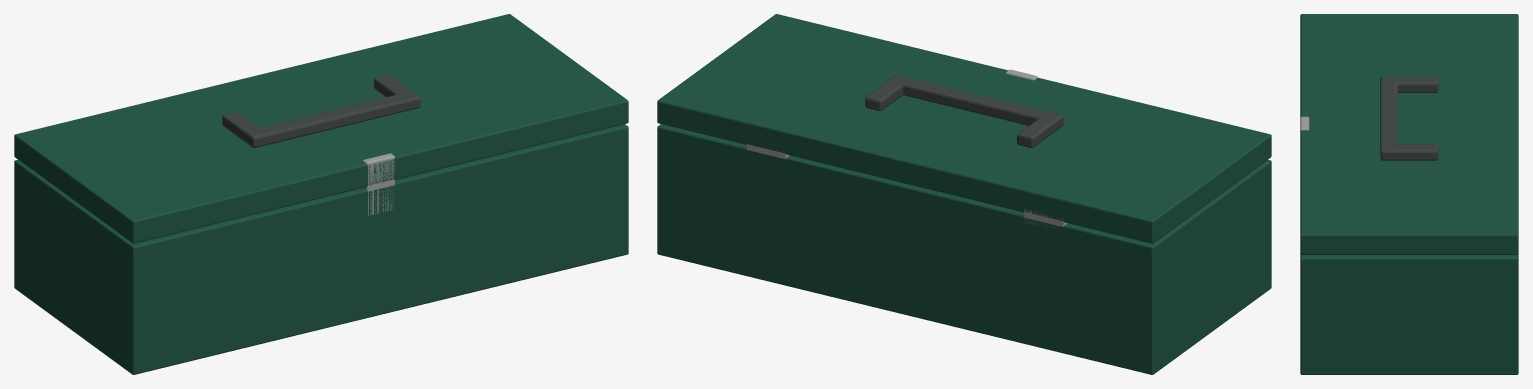
The model's file is storage-toolbox-v1.glb.
3 renders of one model, left to right at view 1: azimuth 30°, elevation 25°; view 2: azimuth 150°, elevation 25°; view 3: azimuth 270°, elevation 25°, orthographic. The views are drawn at different scales.
Visible parts, largest first — view 1: body, lid, handle-grip, front-latch, handle-left, handle-right; view 2: body, lid, handle-grip, handle-left, handle-right; view 3: lid, body, handle-grip, handle-right, handle-left.
Boxes of the visible parts, x1,y1,x2,y2 form: body: [14, 124, 628, 374]; lid: [14, 14, 628, 243]; handle-grip: [256, 94, 409, 145]; front-latch: [362, 153, 394, 215]; handle-left: [222, 112, 267, 147]; handle-right: [374, 75, 420, 110]; body: [657, 124, 1271, 374]; lid: [657, 14, 1271, 243]; handle-grip: [898, 77, 1052, 125]; handle-left: [1017, 112, 1063, 147]; handle-right: [865, 75, 906, 110]; lid: [1300, 14, 1518, 254]; body: [1300, 254, 1518, 374]; handle-grip: [1380, 81, 1397, 146]; handle-right: [1380, 144, 1438, 160]; handle-left: [1380, 77, 1438, 92].
Bounding box in the file's own units: 0.36 × 0.115 × 0.15.
